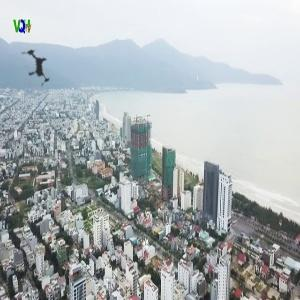drone: (6, 36, 73, 103)
